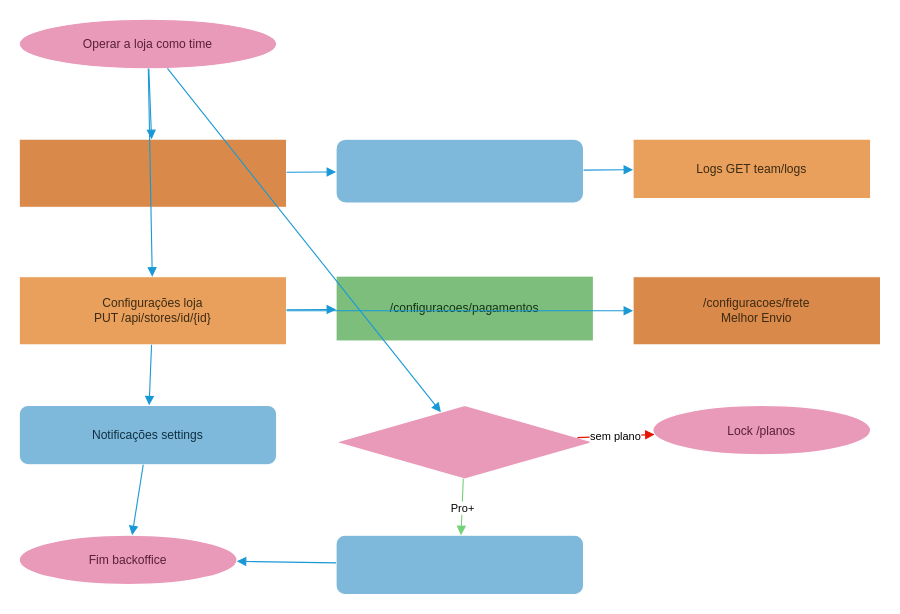
The diagram is 900 pixels wide and 614 high, and some of its shapes have lost their labels. The centre of each missing label's shape, as x and y in pixels:
"Balcão / PIX local" goes at point (459, 564).
"Equipe usuários GET team/users · convites" goes at point (152, 172).
"PDV plano Pro+ /pdv + produtos locais" goes at point (464, 441).
"Permissões (matriz role)" goes at point (459, 170).
